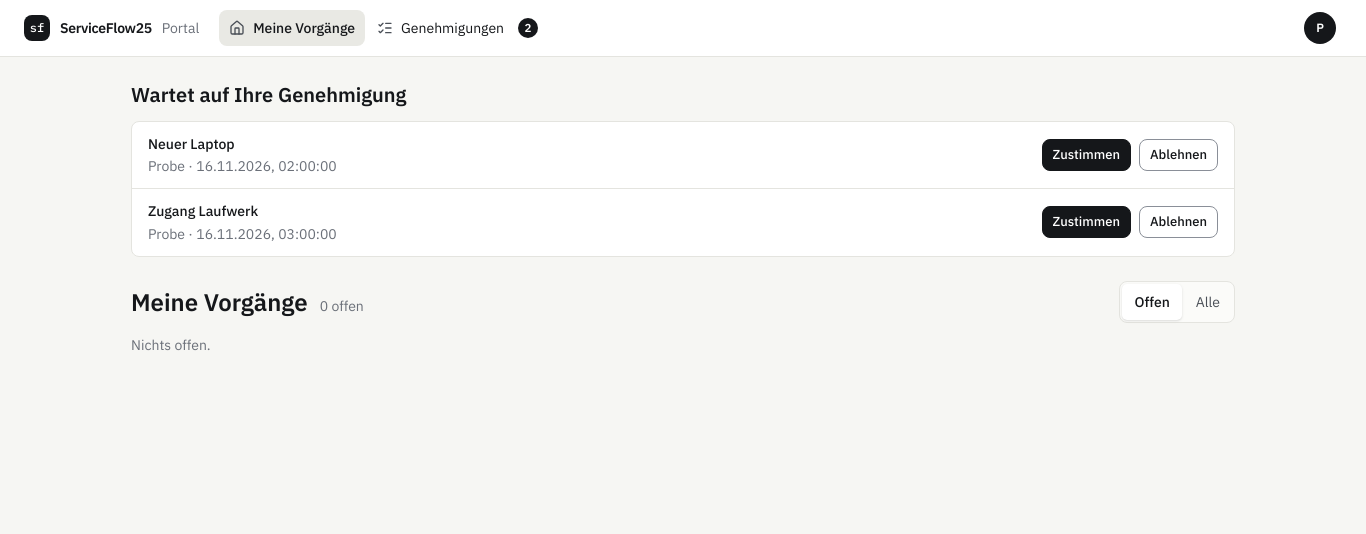
it: Open approvals on the start page › asks for the reason before refusing, as on the page of the approval
Click the button with aria-label "Ablehnen: Zugang Laufwerk" at (1178, 222), box [1139, 206, 1218, 238]
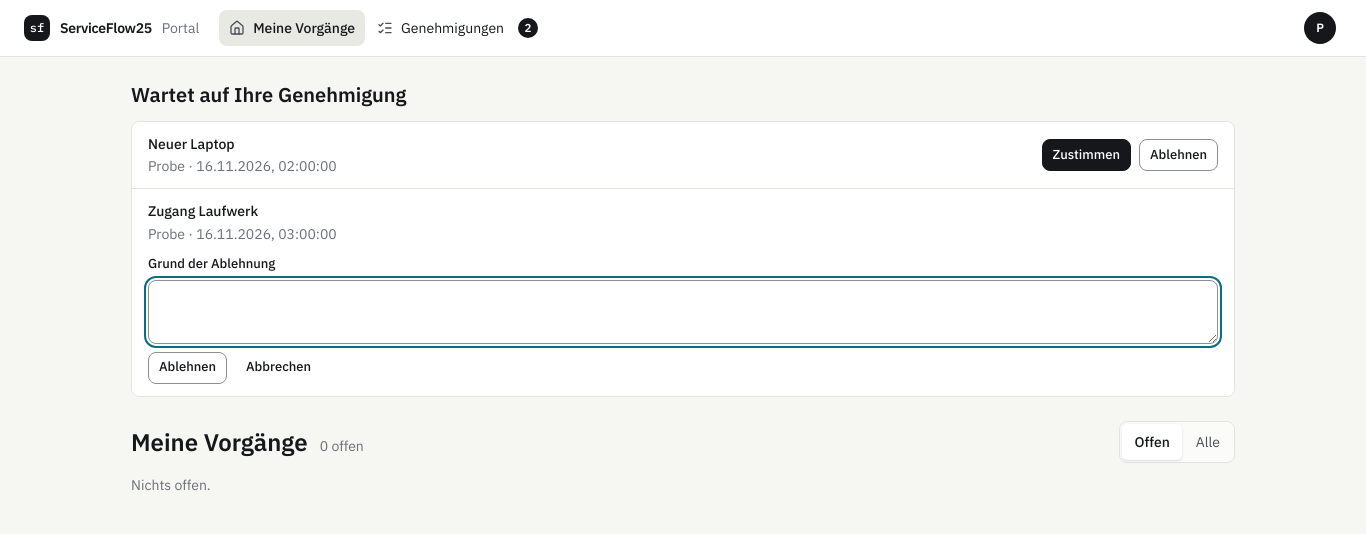
Click the button "Ablehnen" below "Grund der Ablehnung" at (188, 368), box [148, 352, 227, 384]
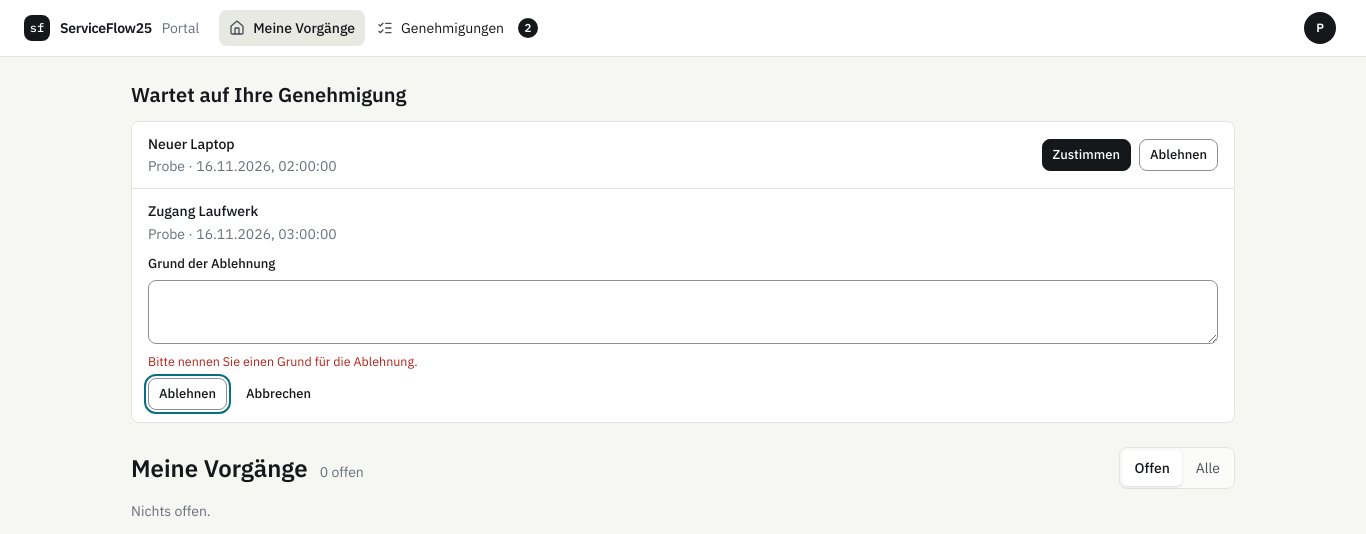
Expected: the message shows "Grund", [148, 353, 418, 369]
Type "Nicht nötig" into the text box labelled "Grund der Ablehnung" at (683, 312), box [148, 280, 1218, 344]
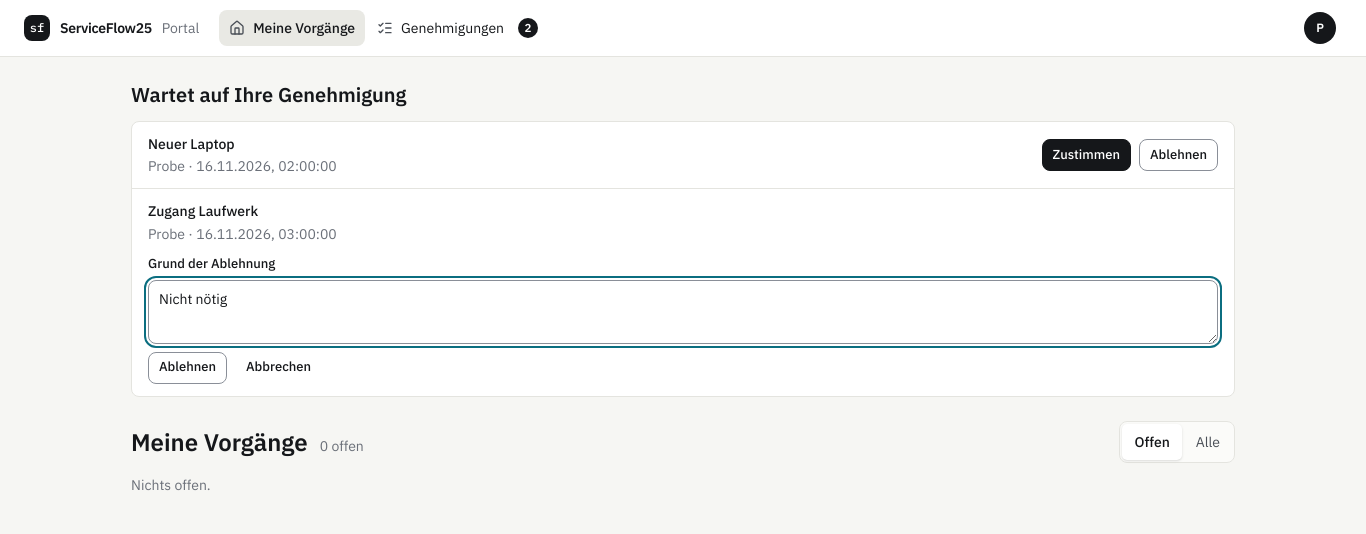
Click the button "Ablehnen" below "Grund der Ablehnung" at (188, 368), box [148, 352, 227, 384]
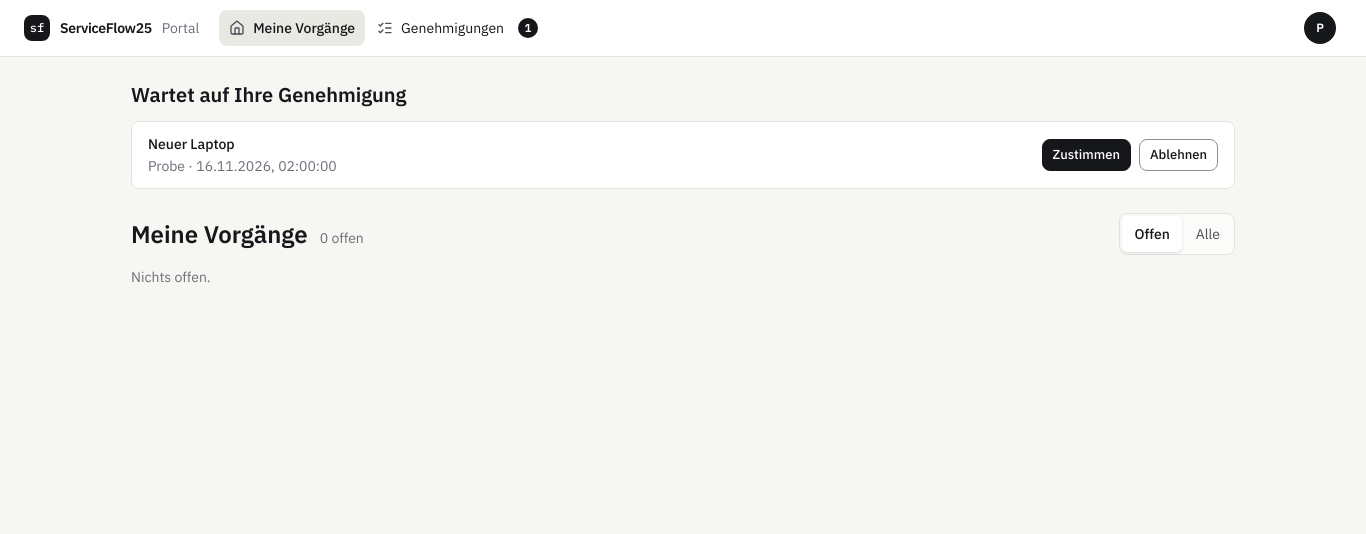
Expected: the number of list items is 1, [132, 122, 1234, 188]
